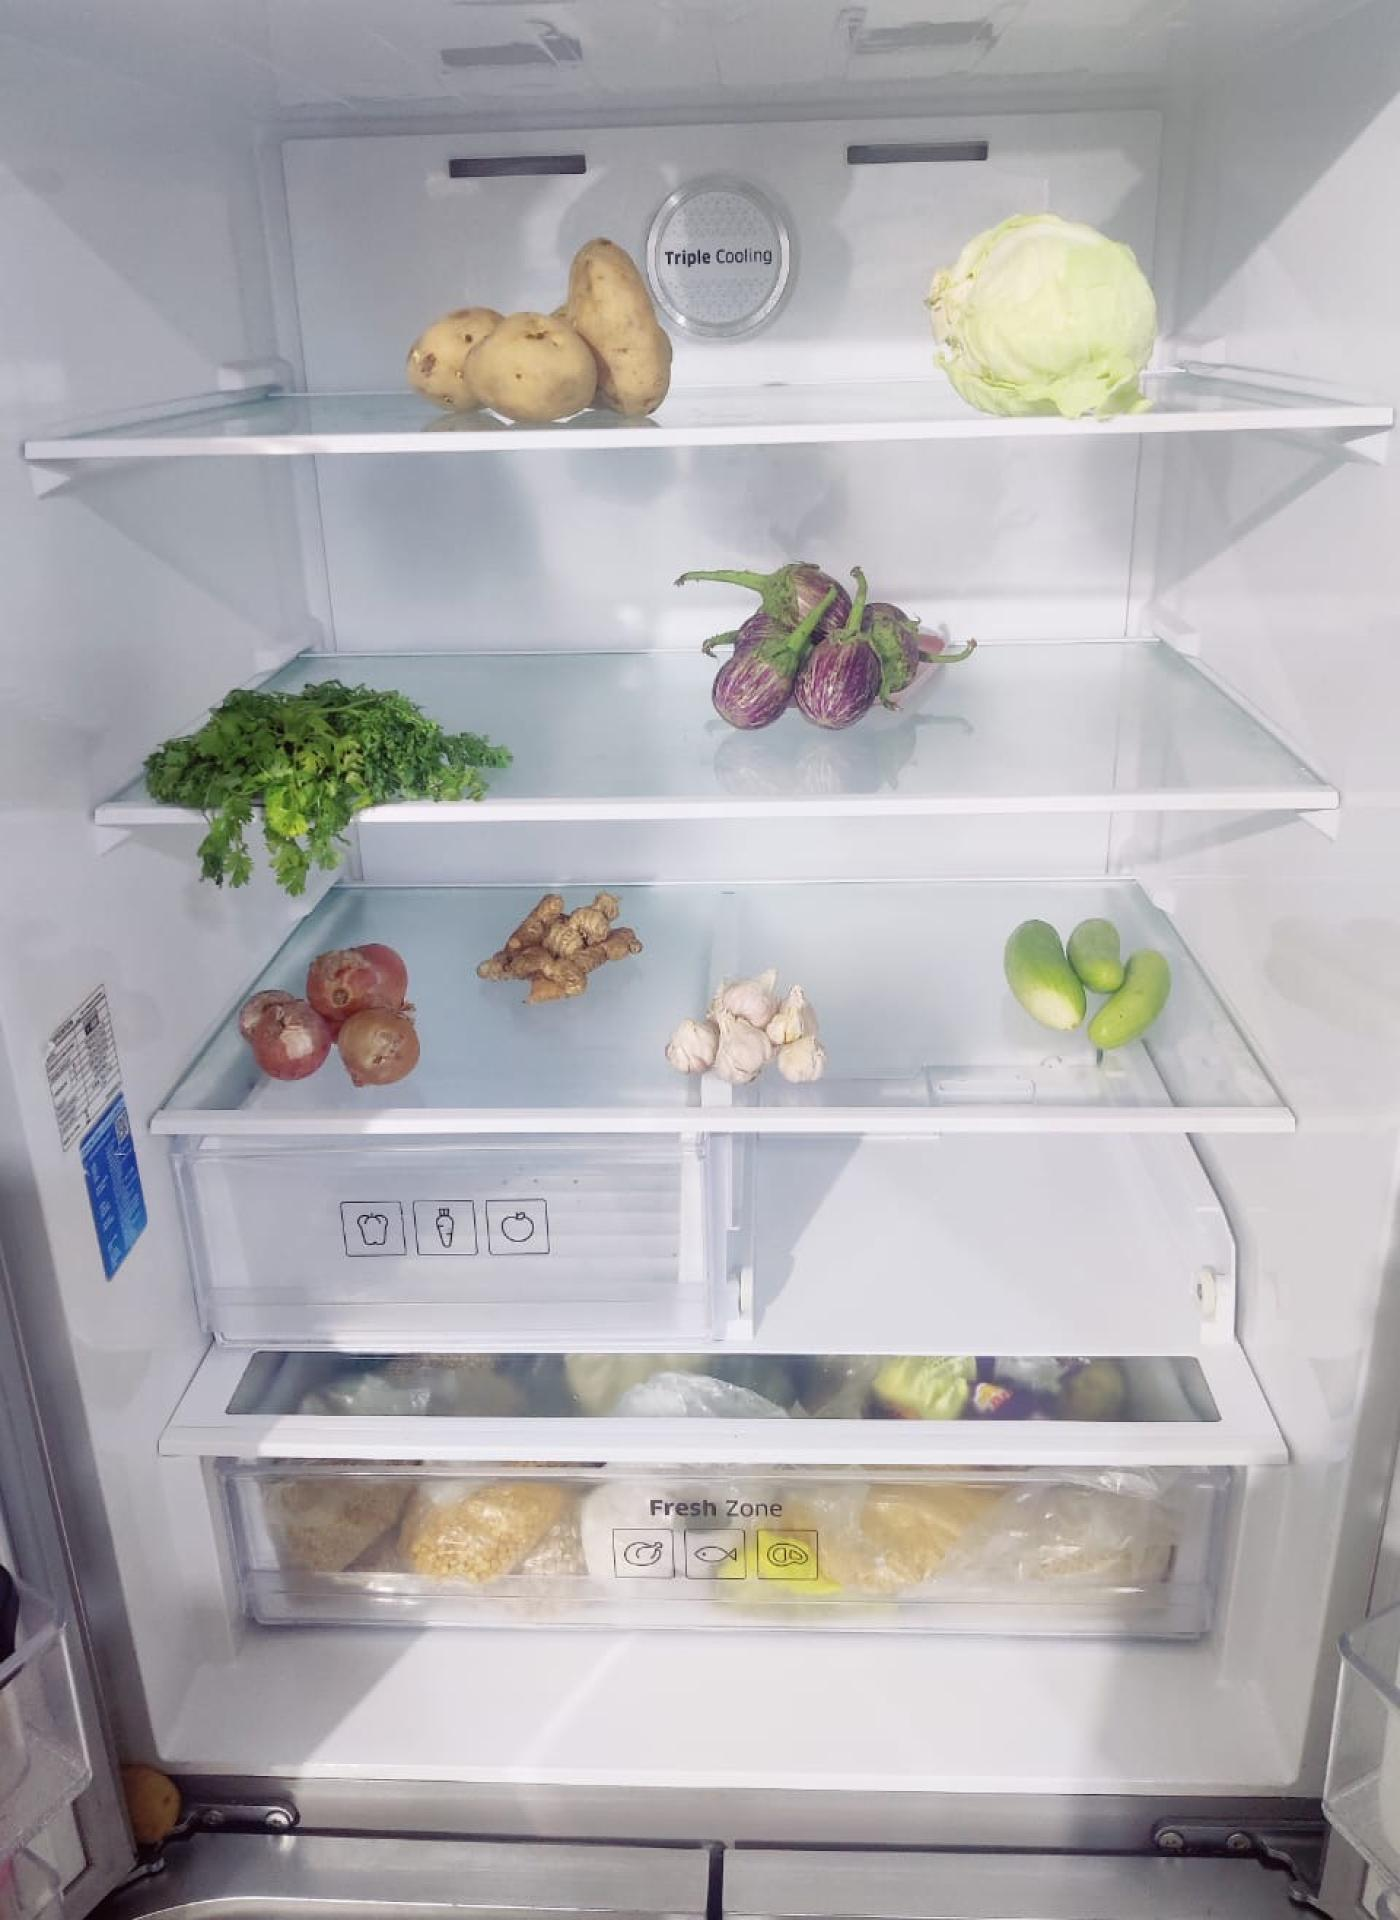brinjal: (708, 563, 944, 727)
cabbage: (933, 210, 1166, 416)
coriander: (146, 687, 492, 848)
cucumber: (1003, 911, 1172, 1048)
garlic: (672, 969, 833, 1087)
ginger: (479, 890, 641, 1002)
onion: (242, 942, 420, 1087)
potato: (410, 246, 678, 426)
